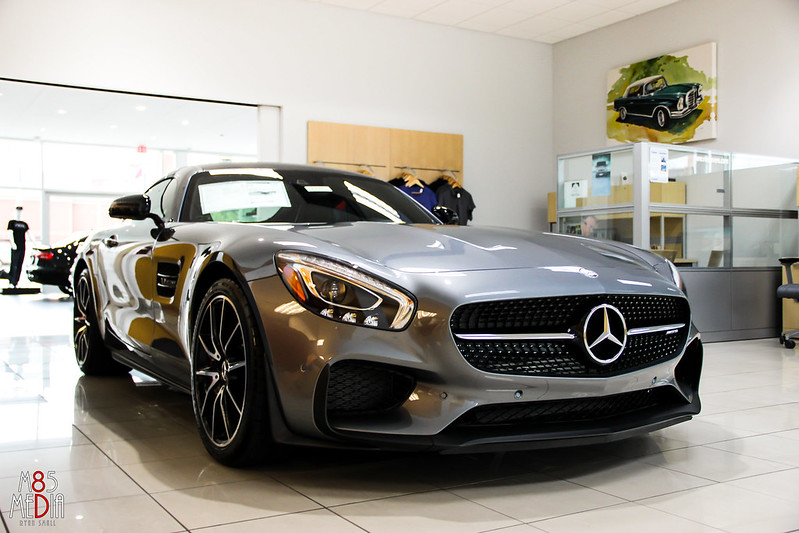car: (66, 154, 711, 473)
